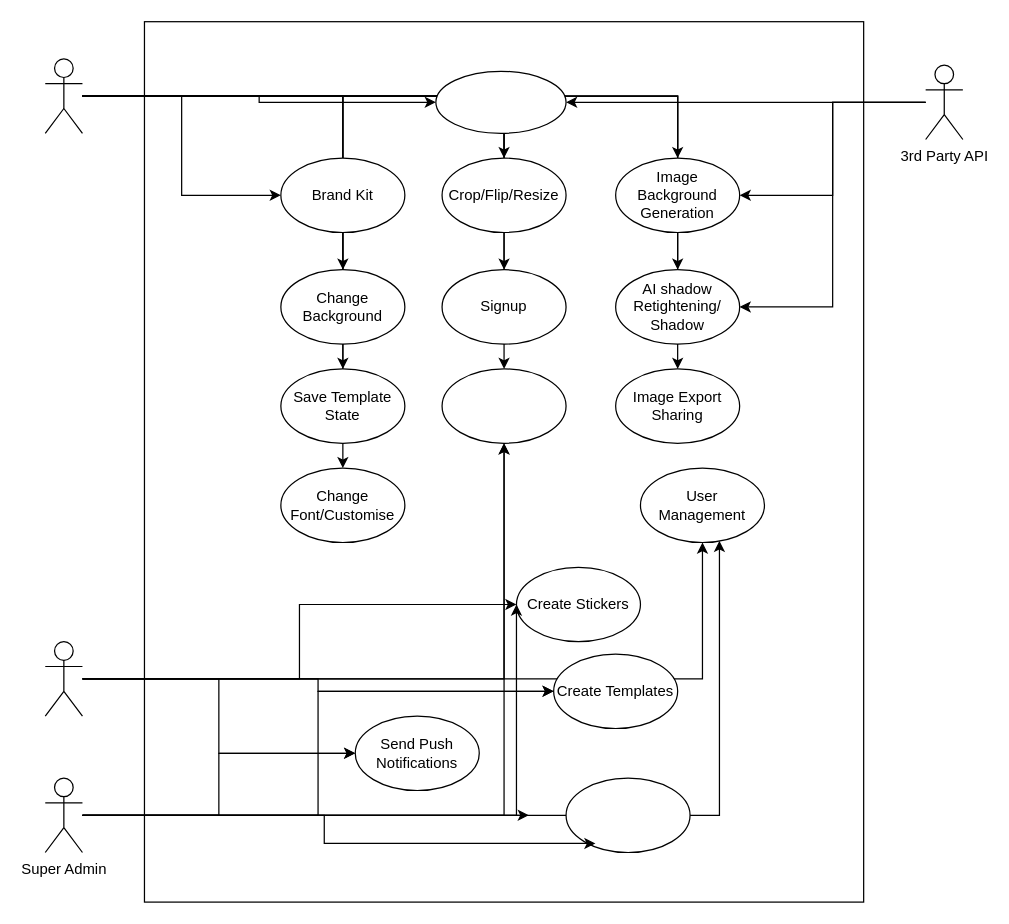
This 1009x924 diagram has some shape labels left out. The centre of each missing label's shape, as x and y in pixels:
"Admin" goes at point (63, 678).
"Admin Management" goes at point (627, 814).
"Backgrund Removal" goes at point (500, 101).
"Login" goes at point (503, 405).
"User" goes at point (63, 95).
